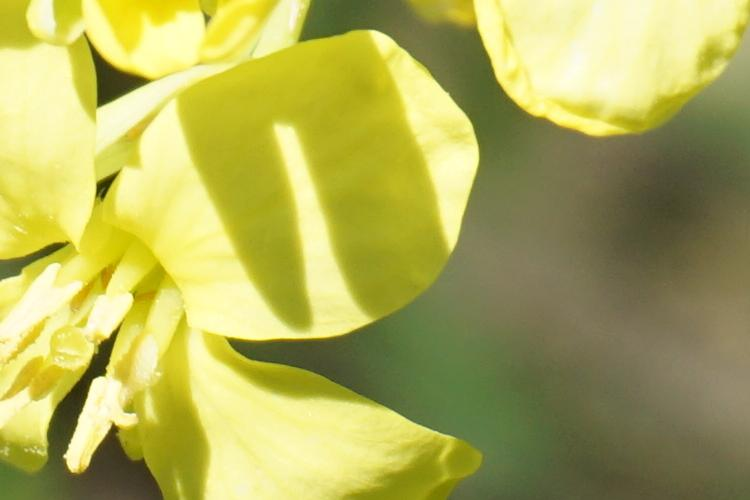yellow: (12, 32, 487, 492), (470, 12, 732, 143)
